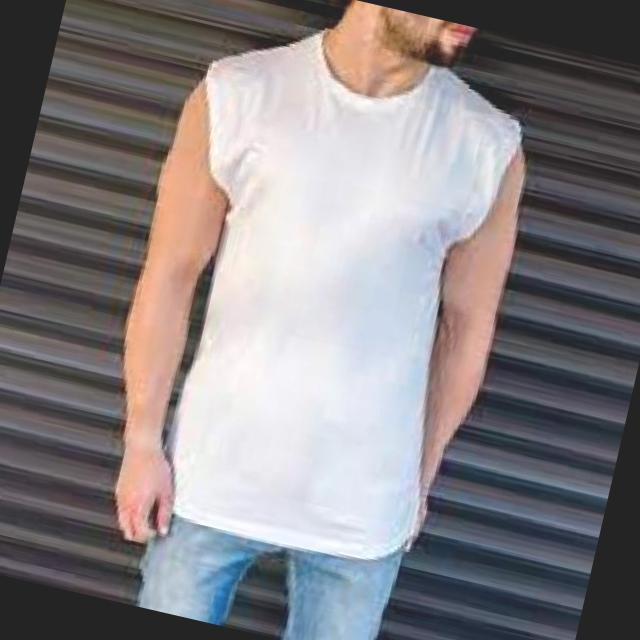no_vest: (107, 5, 534, 576)
